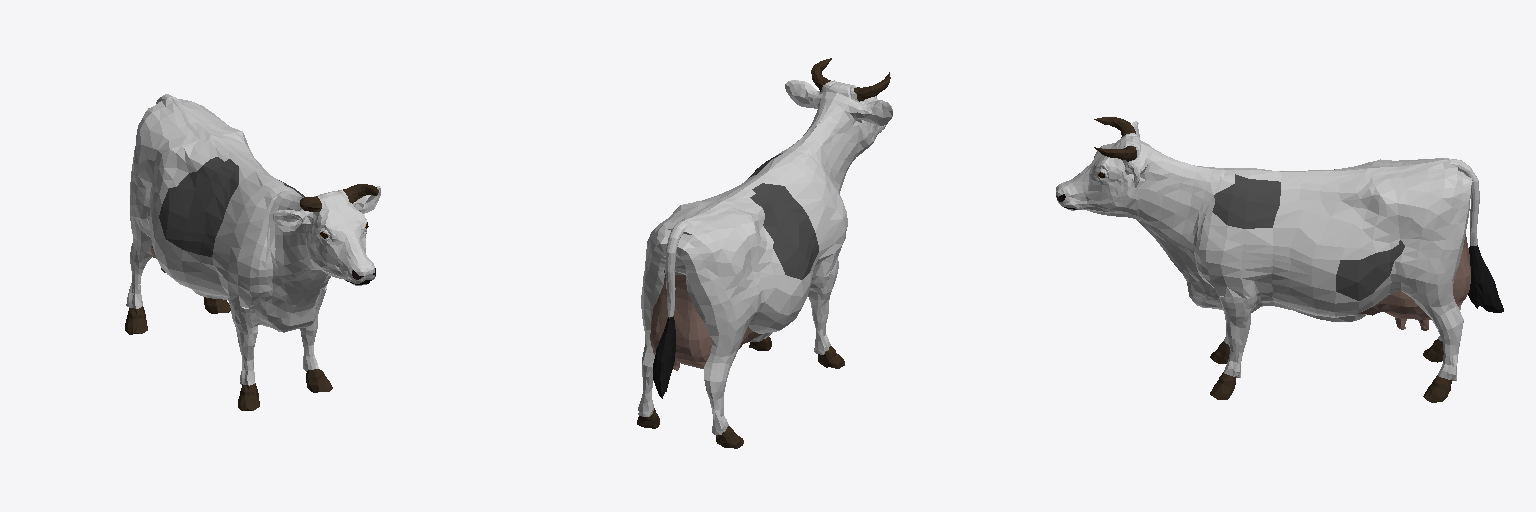
File: cow_SketchUpScene.obj
3 views of the same model, side by side, from view 1: azimuth 30°, elevation 25°; view 2: azimuth 150°, elevation 25°; view 3: azimuth 270°, elevation 25° (orthographic).
Visible parts, largest first — view 1: Senza_Senza__CowHide1, Senza.001_Senza.001_CowSpots, Senza_Senza__CowHooves1, Senza_Senza__CowHorns1; view 2: Senza_Senza__CowHide1, Senza.001_Senza.001_CowSpots, Senza_Senza__CowUdder1, Senza_Senza__CowHooves1, Senza_Senza__CowTail1, Senza_Senza__CowHorns1; view 3: Senza_Senza__CowHide1, Senza.001_Senza.001_CowSpots, Senza_Senza__CowUdder1, Senza_Senza__CowHooves1, Senza_Senza__CowTail1, Senza_Senza__CowHorns1.
Part boxes in pixels (bbox=[...]): Senza_Senza__CowHide1: bbox=[126, 94, 380, 385]; Senza.001_Senza.001_CowSpots: bbox=[159, 157, 304, 256]; Senza_Senza__CowHooves1: bbox=[125, 297, 332, 410]; Senza_Senza__CowHorns1: bbox=[300, 184, 378, 211]; Senza_Senza__CowHide1: bbox=[638, 80, 892, 434]; Senza.001_Senza.001_CowSpots: bbox=[748, 153, 818, 279]; Senza_Senza__CowUdder1: bbox=[650, 270, 761, 370]; Senza_Senza__CowHooves1: bbox=[637, 337, 844, 448]; Senza_Senza__CowTail1: bbox=[653, 316, 675, 398]; Senza_Senza__CowHorns1: bbox=[811, 58, 890, 101]; Senza_Senza__CowHide1: bbox=[1056, 121, 1479, 380]; Senza.001_Senza.001_CowSpots: bbox=[1212, 169, 1404, 300]; Senza_Senza__CowUdder1: bbox=[1359, 234, 1470, 330]; Senza_Senza__CowHooves1: bbox=[1210, 339, 1451, 402]; Senza_Senza__CowTail1: bbox=[1468, 245, 1503, 312]; Senza_Senza__CowHorns1: bbox=[1094, 117, 1136, 161].
Size of the model in its own units: 0.8235 by 1.53 by 2.54.